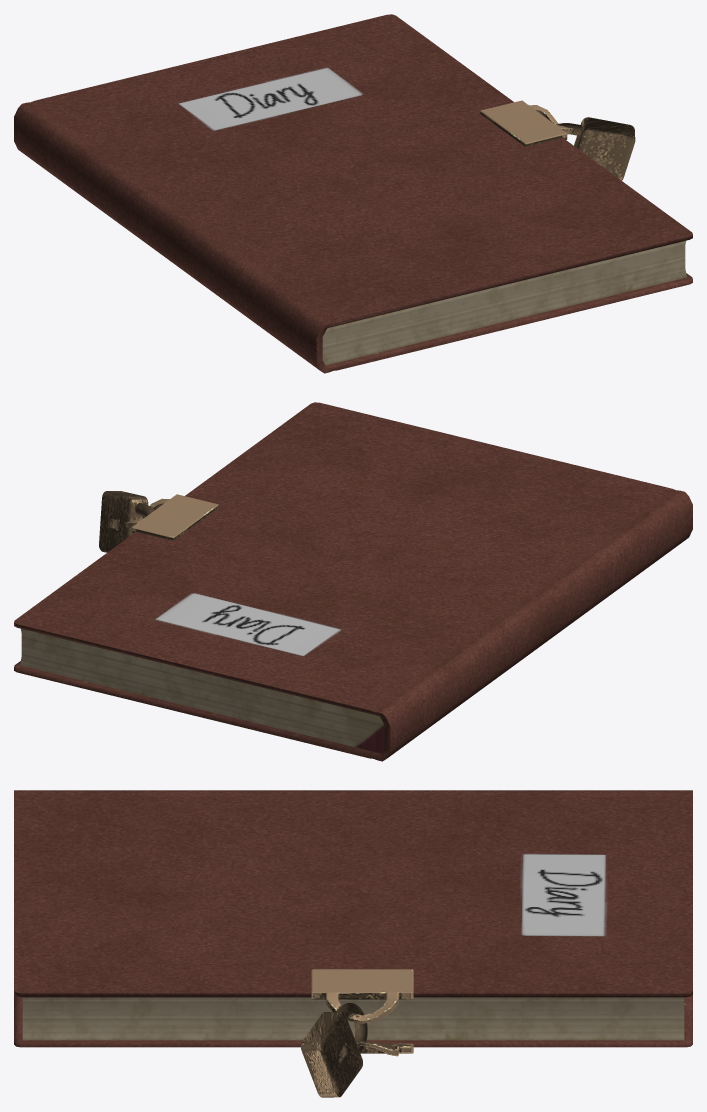
File: SM_Clue_Stage2_DoctorsDiary.fbx
3 views of the same model, one above another, from view 1: azimuth 30°, elevation 25°; view 2: azimuth 150°, elevation 25°; view 3: azimuth 270°, elevation 25° (orthographic). The views are drawn at different scales.
Parts seen in each view (by area): view 1: SM_Prop_Clue_Diary; view 2: SM_Prop_Clue_Diary; view 3: SM_Prop_Clue_Diary.
Boxes of the visible parts, left/top/right/bottom form: SM_Prop_Clue_Diary: left=14, top=14, right=692, bottom=373; SM_Prop_Clue_Diary: left=14, top=402, right=692, bottom=761; SM_Prop_Clue_Diary: left=14, top=790, right=692, bottom=1097.
Bounding box in the file's own units: 23.76 × 3.34 × 27.43.
1 material, 1 textured.
